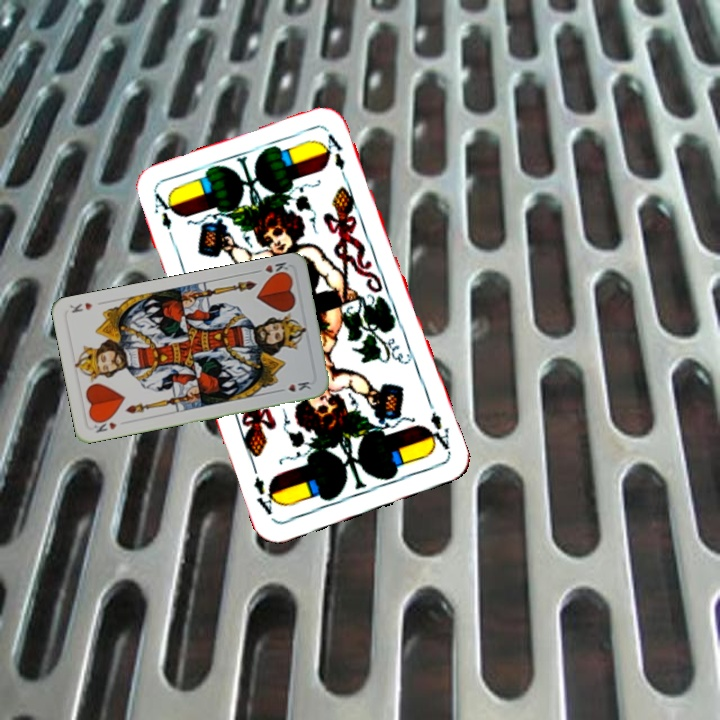EA: (150, 189, 178, 246), (422, 408, 453, 456)
HK: (250, 258, 291, 280), (90, 418, 119, 435)
